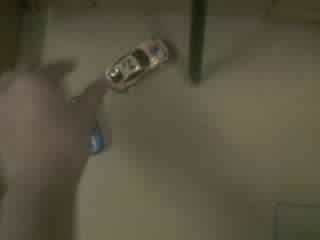Car: (105, 40, 168, 91)
